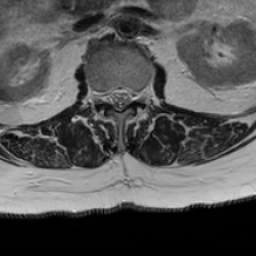CCS_normal: (115, 76, 124, 120)
LFS_normal: (134, 76, 144, 110)
LLS_normal: (124, 76, 134, 113)
RFS_normal: (96, 77, 105, 112)
RLS_normal: (105, 76, 115, 113)
